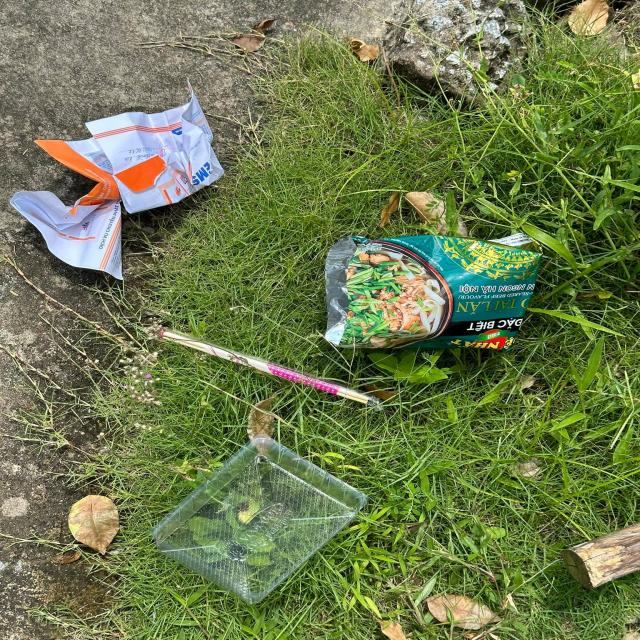paper: (10, 77, 226, 280)
plastic holder: (154, 435, 370, 605)
snack package: (326, 234, 544, 351)
